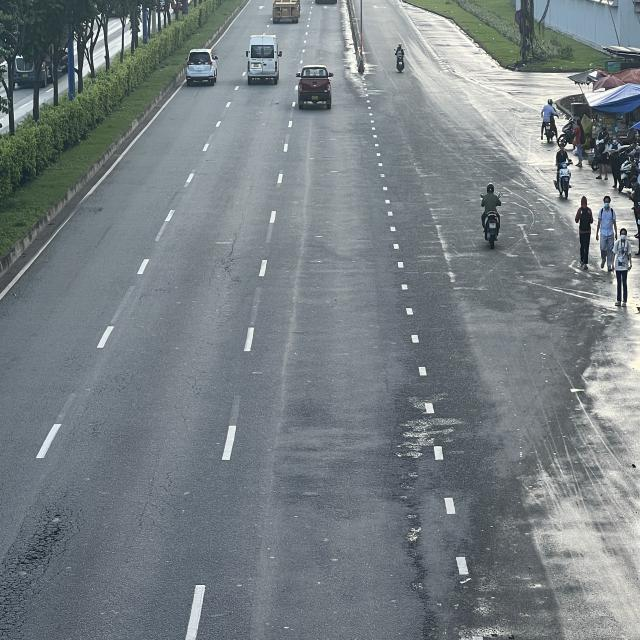car: (296, 64, 334, 108), (184, 49, 217, 85)
van: (248, 34, 284, 84)
